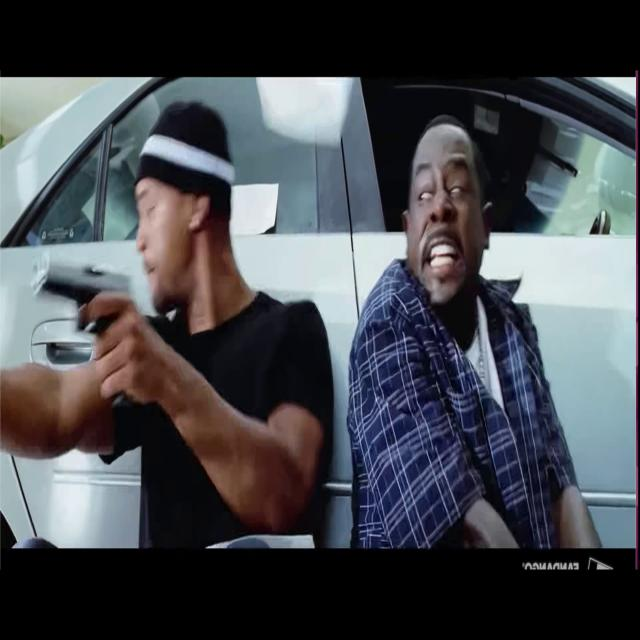weapons: (29, 247, 143, 415)
